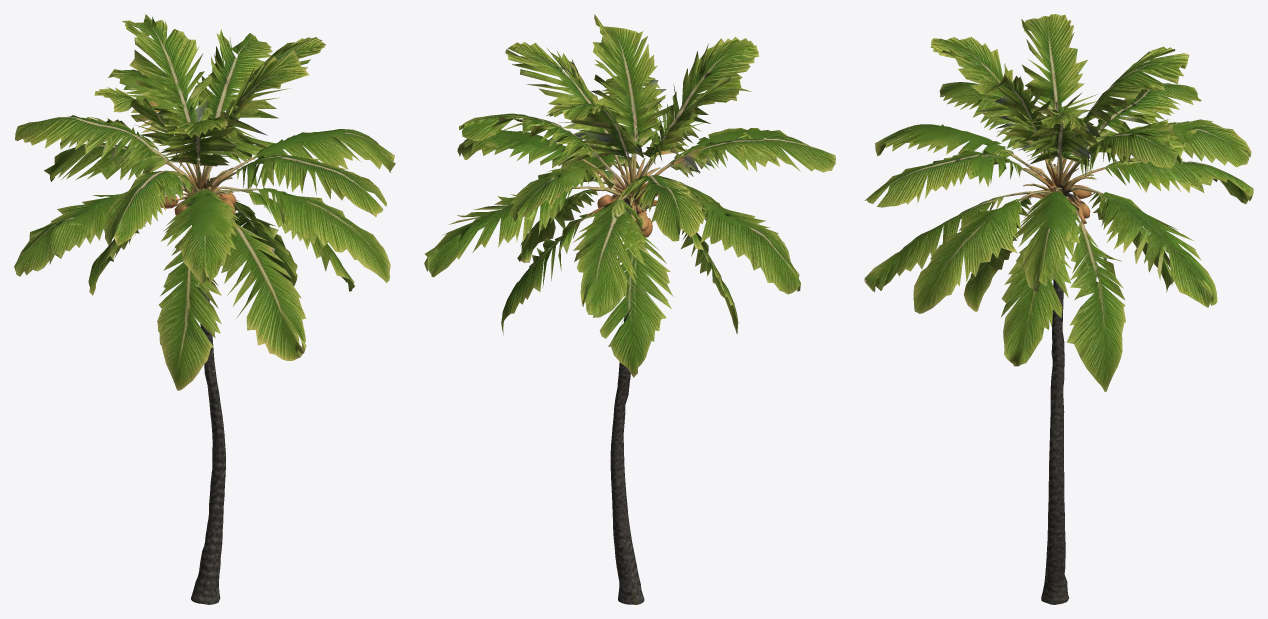
Rendered from palm.glb.
3 views of the same model, side by side, from view 1: azimuth 30°, elevation 25°; view 2: azimuth 150°, elevation 25°; view 3: azimuth 270°, elevation 25° (orthographic).
Size of the model in its own units: 0.6504 by 0.9502 by 0.604.
Materials: 1 (1 with a texture image).
